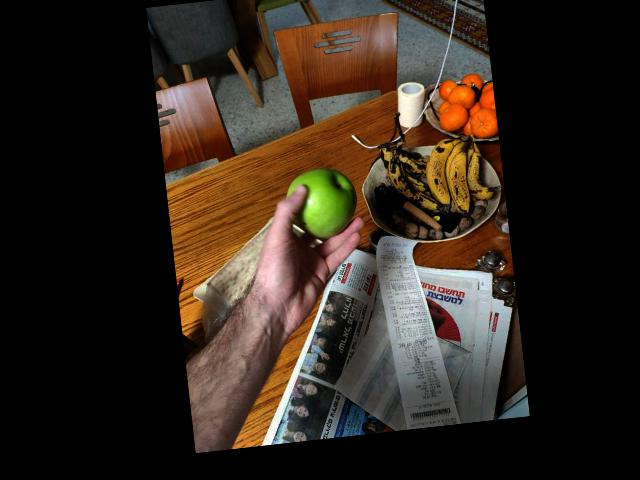apple: (280, 162, 359, 244)
